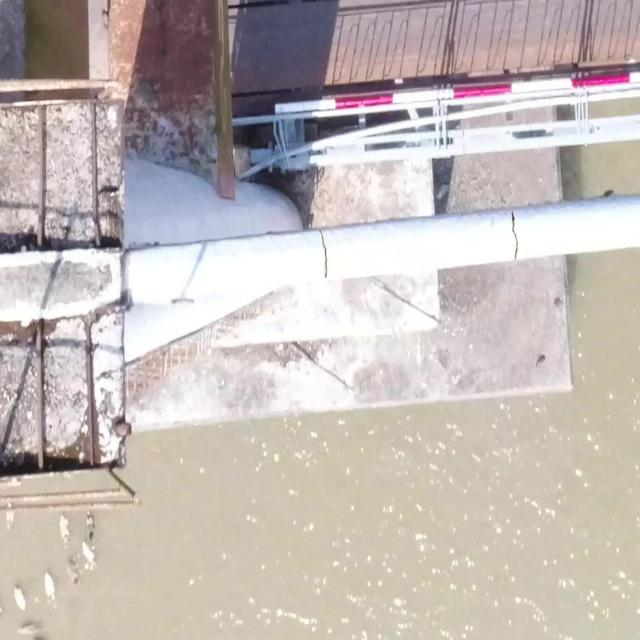crack: (510, 211, 520, 260), (319, 229, 329, 277)
